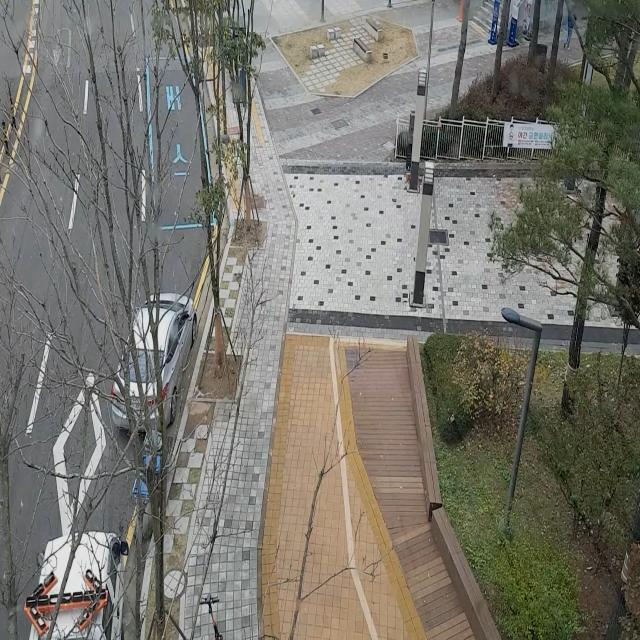Car: (99, 278, 210, 448)
Truck: (16, 514, 137, 640)
